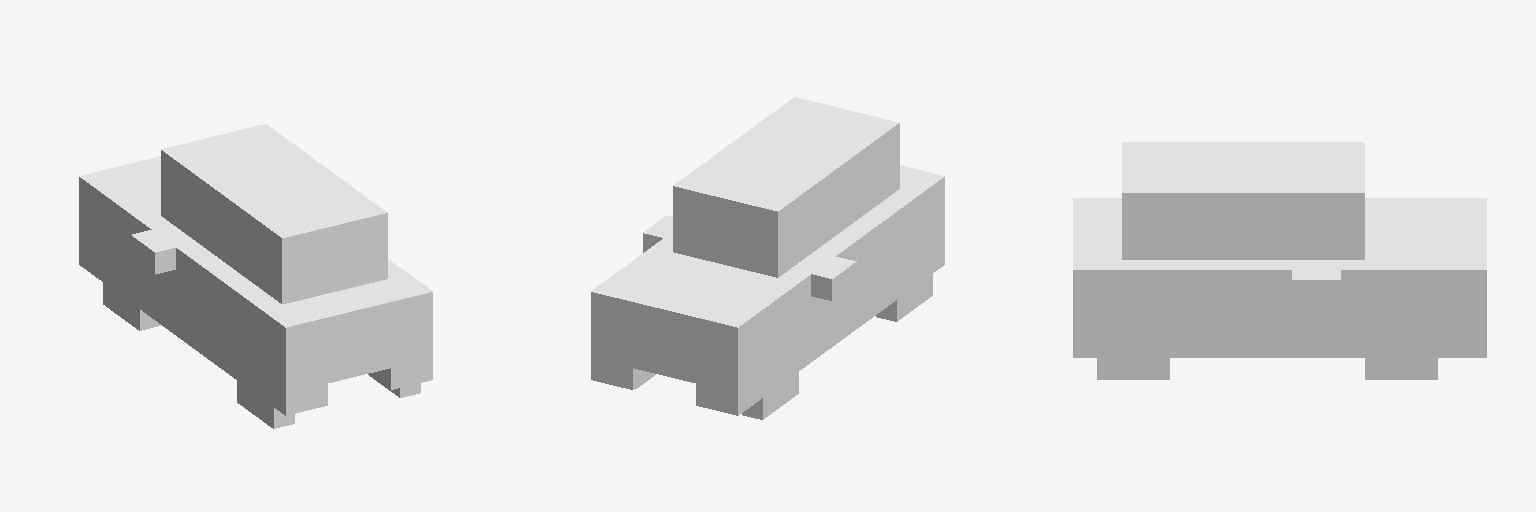
File: car.obj
3 views of the same model, side by side, from view 1: azimuth 30°, elevation 25°; view 2: azimuth 150°, elevation 25°; view 3: azimuth 270°, elevation 25° (orthographic).
Visible parts, largest first — view 1: object 1; view 2: object 1; view 3: object 1.
Part boxes in pixels (x1,y1,x2,y2): object 1: (79,124,432,428); object 1: (591,97,944,419); object 1: (1073,142,1486,379).
Size of the model in its own units: 0.9 by 0.8 by 1.7.